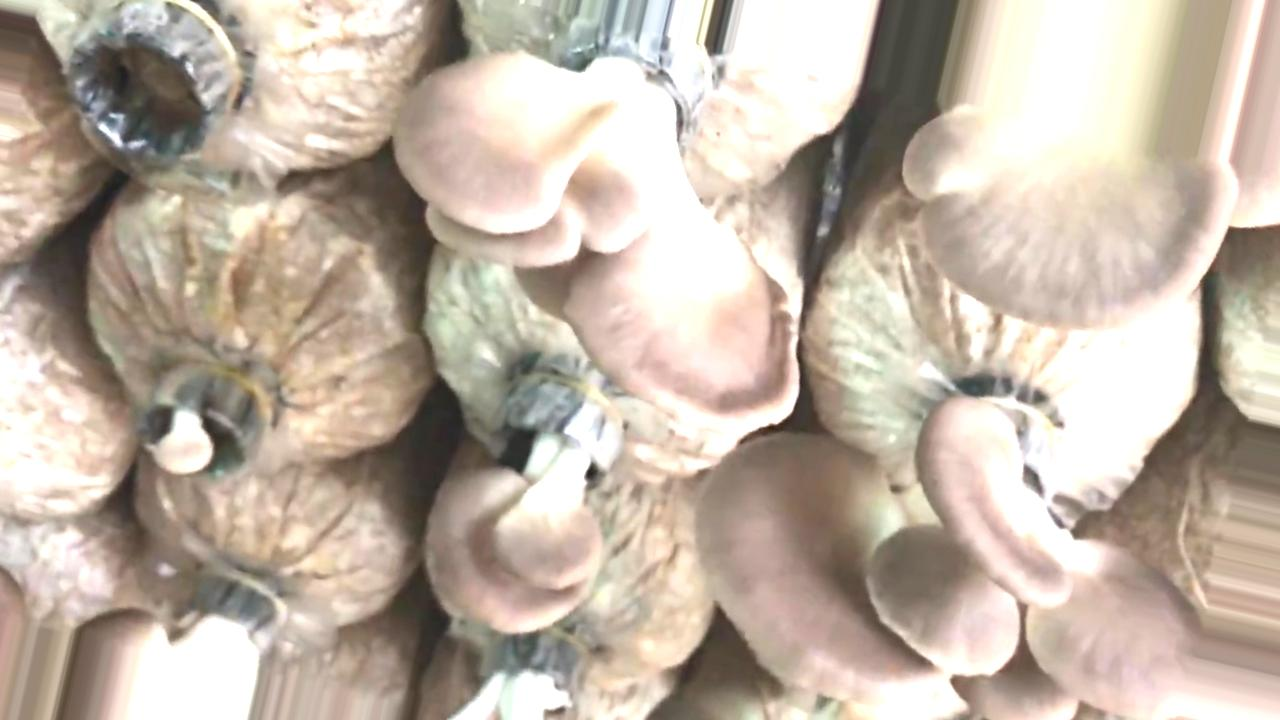nam: (699, 390, 1280, 718), (393, 48, 800, 424), (902, 2, 1280, 323), (422, 387, 612, 633), (59, 580, 278, 720), (138, 362, 270, 477), (452, 638, 578, 720)
